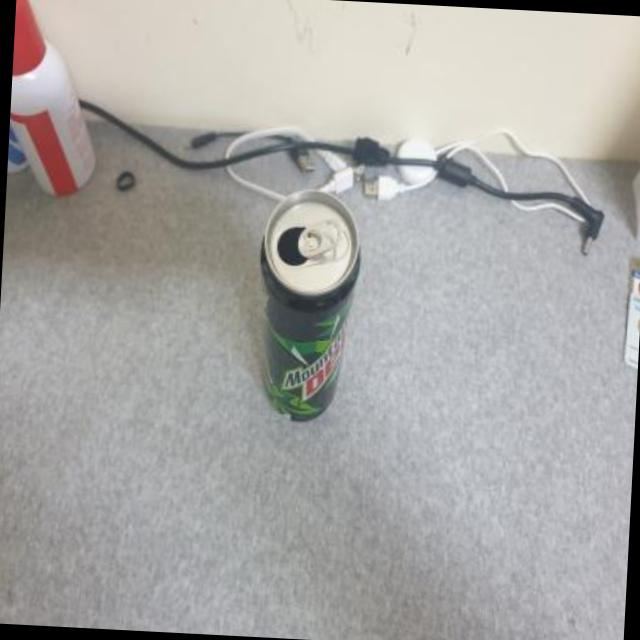metal: (259, 189, 357, 417)
